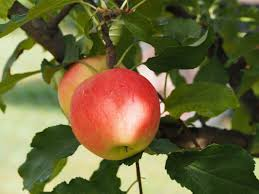apple: (73, 71, 162, 162), (59, 57, 124, 121)
